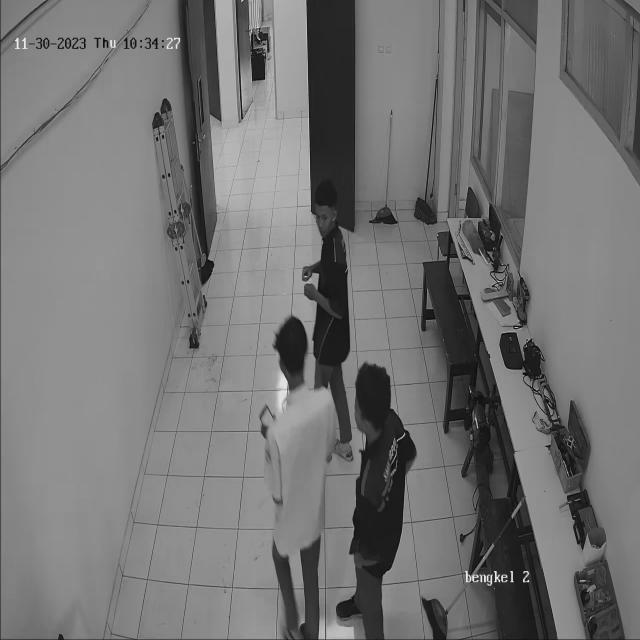person: (252, 299, 340, 640), (350, 347, 411, 632), (306, 180, 359, 463)
